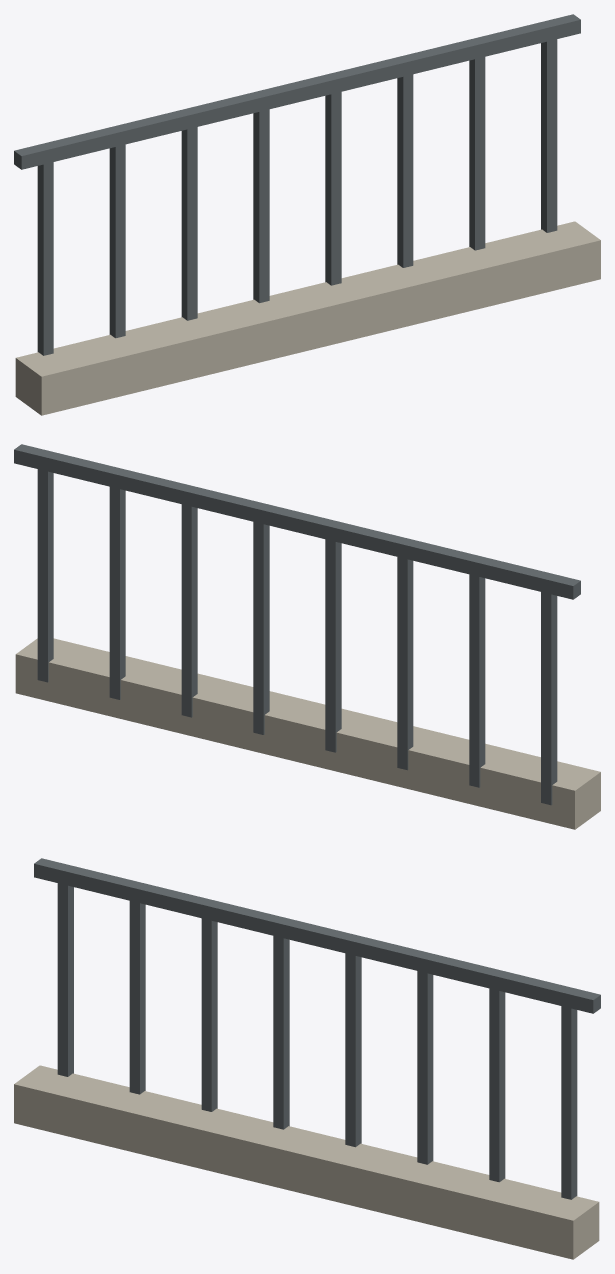
File: iz3_neighborhood_balkon_sıvalı.glb
The picture shows the model from 3 angles, top to bottom: view 1: azimuth 30°, elevation 25°; view 2: azimuth 150°, elevation 25°; view 3: azimuth 330°, elevation 25°; orthographic projection.
Parts seen in each view (by area): view 1: deck, baluster (×8), rail; view 2: deck, baluster (×8), rail; view 3: deck, baluster (×8), rail.
Boxes of the visible parts, <box> form: deck: <box>15,221,600,415</box>; baluster (×8): <box>37,39,557,355</box>; rail: <box>14,14,580,169</box>; deck: <box>15,638,600,829</box>; baluster (×8): <box>37,469,557,805</box>; rail: <box>14,444,580,599</box>; deck: <box>14,1065,599,1259</box>; baluster (×8): <box>57,883,577,1199</box>; rail: <box>34,858,600,1013</box>.
Bounding box in the file's own units: 3 × 1.25 × 0.2558.
